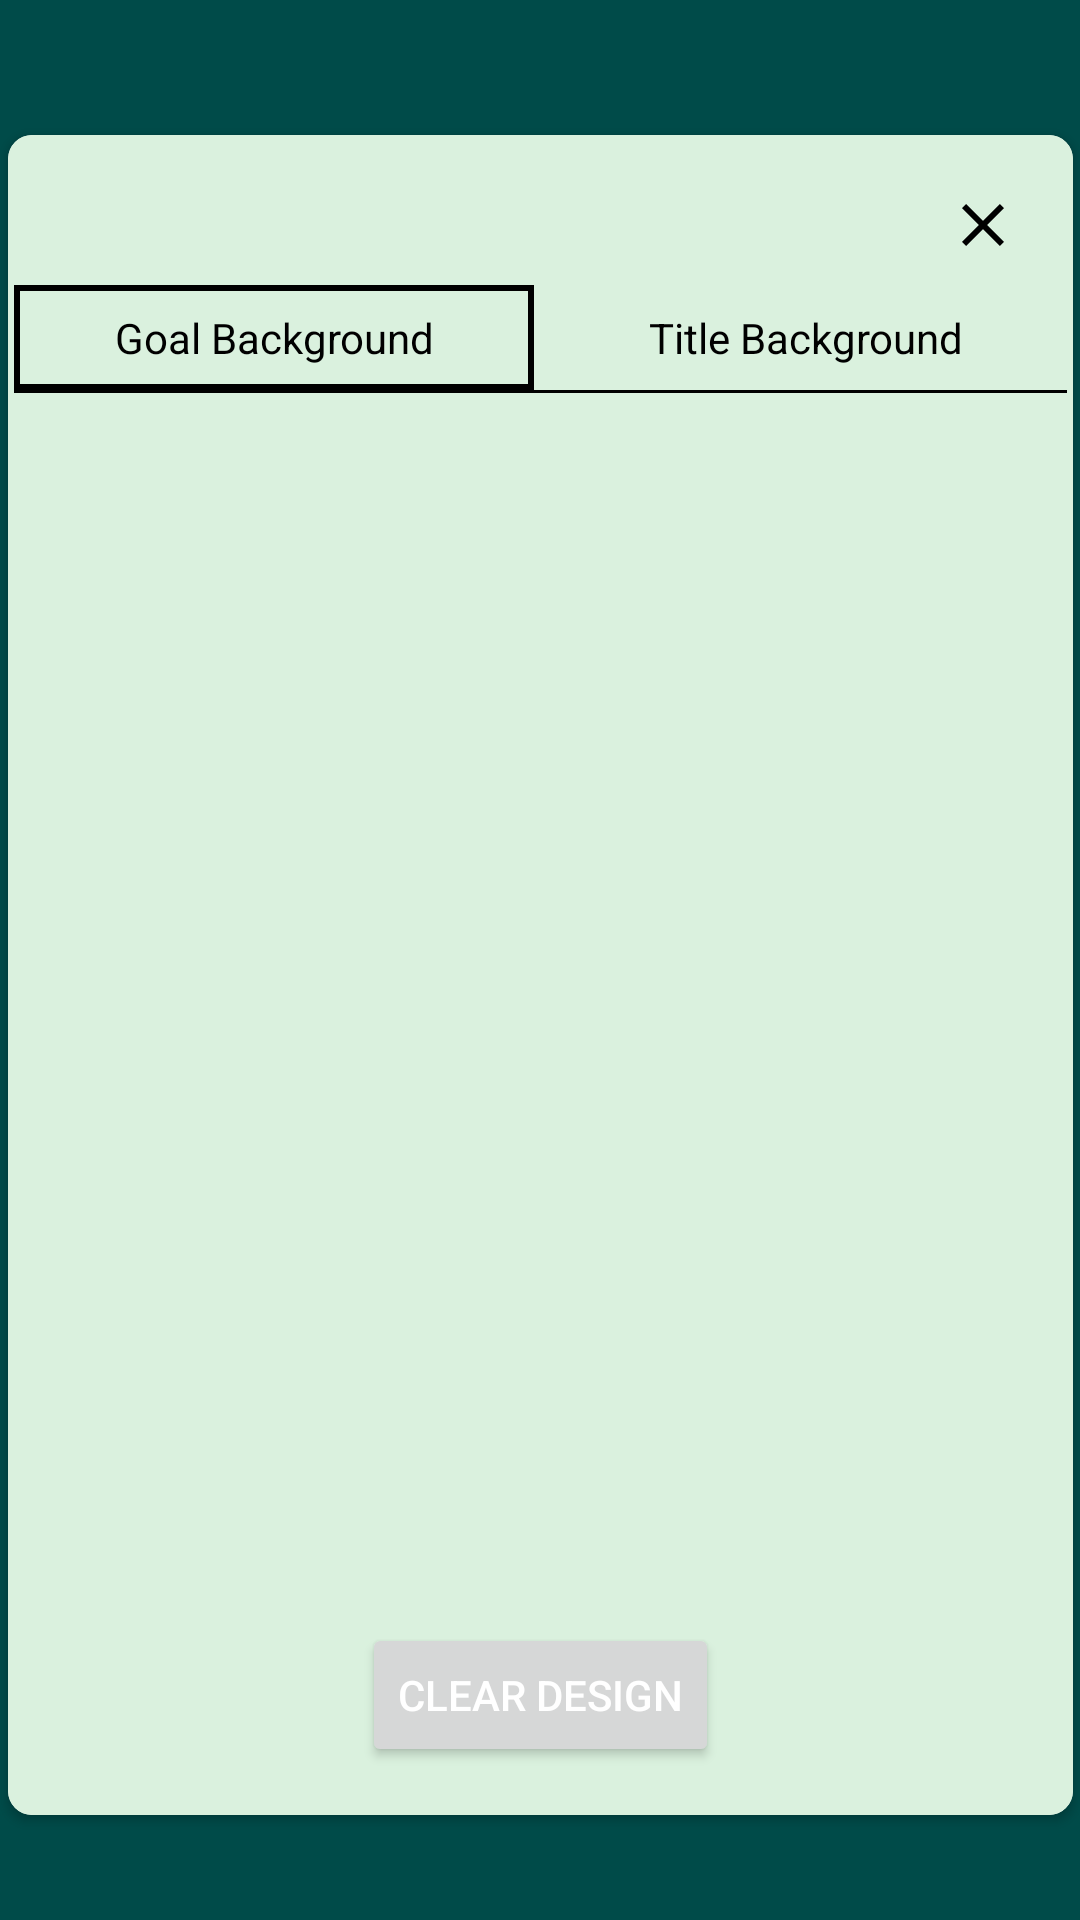

Screen size 1080 x 1920. Icon name, then its center in pixels as [x,y]:
close: [983,225]
